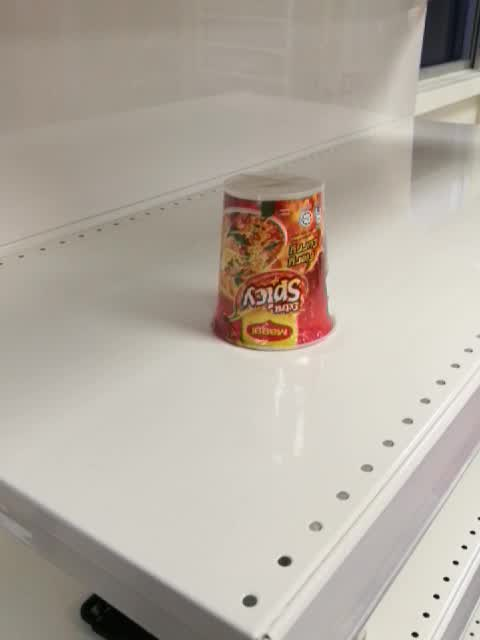maggi: (212, 172, 338, 352)
